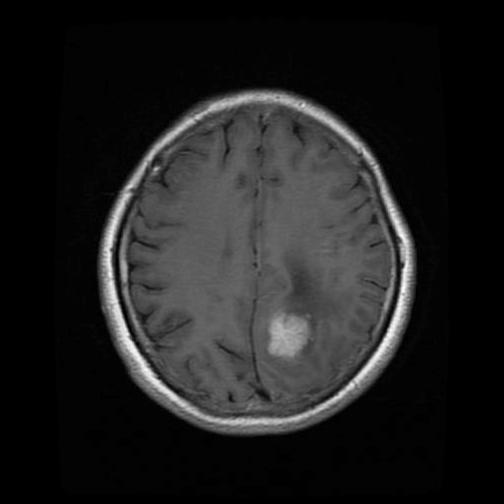Tumour-Pituitary: (247, 303, 318, 379)
